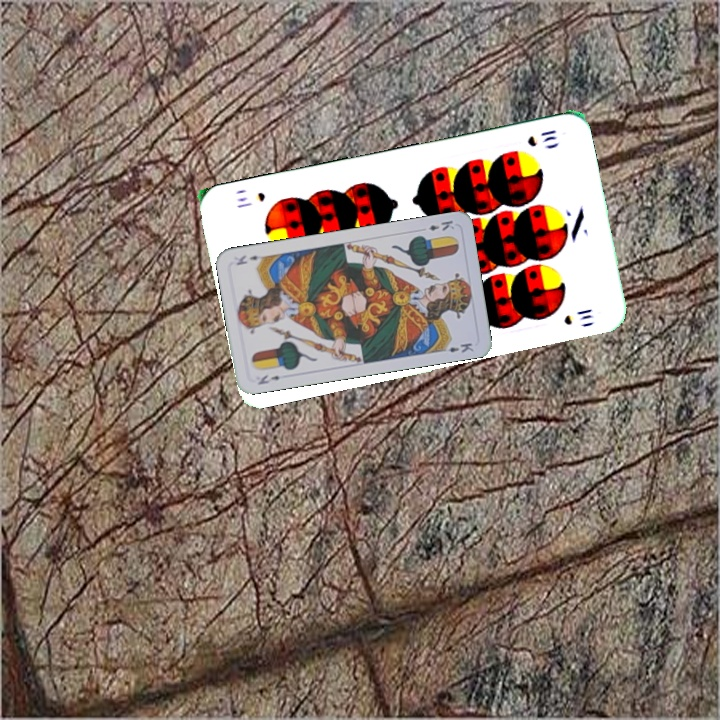EK: (425, 216, 457, 234), (254, 371, 290, 387)
S10: (523, 125, 559, 149)
